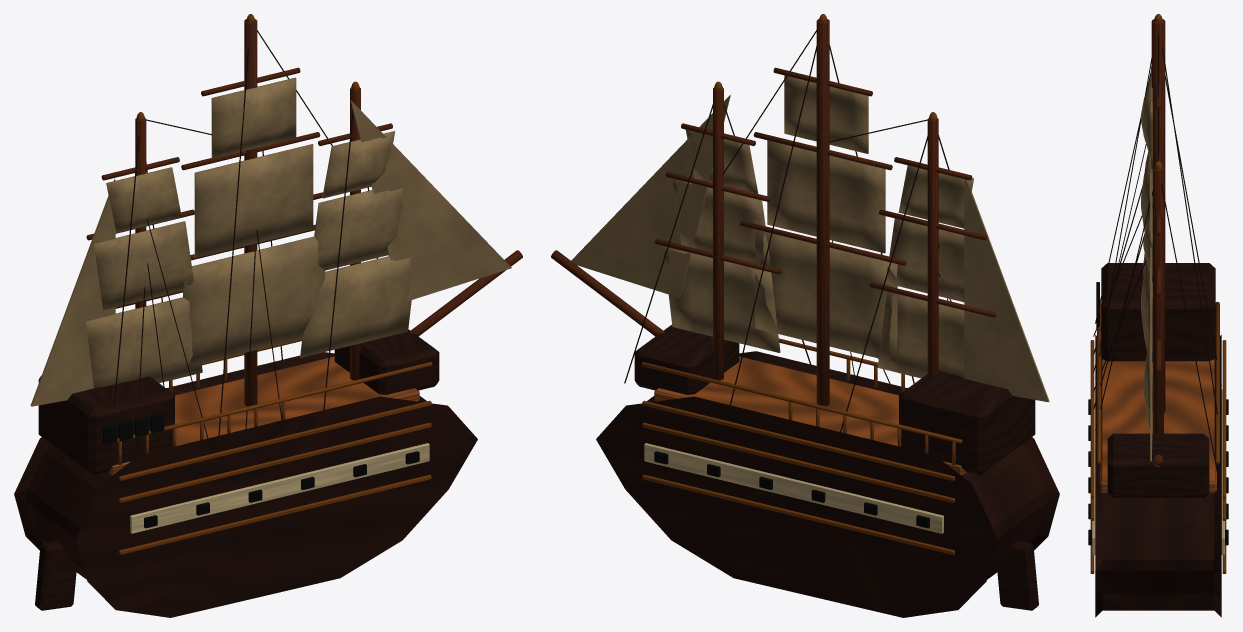
The model's file is historical_model_ship_LOD1.glb.
3 views of the same model, side by side, from view 1: azimuth 30°, elevation 25°; view 2: azimuth 150°, elevation 25°; view 3: azimuth 270°, elevation 25° (orthographic).
Visible parts, largest first — view 1: Carvel built closed wooden hull, Billowed square sail 1-0, Billowed square sail 1-1, Forward triangular staysail, Planked main deck, Raised stern castle, Billowed square sail 2-0, Billowed square sail 0-0, Billowed square sail 0-1, Aft triangular spanker, Billowed square sail 2-1, Billowed square sail 1-2 (+15 smaller); view 2: Carvel built closed wooden hull, Billowed square sail 1-0, Forward triangular staysail, Raised stern castle, Billowed square sail 1-1, Aft triangular spanker, Planked main deck, Billowed square sail 2-0, Tapered mast 1, Billowed square sail 0-0, Cream gun deck stripe.001, Raised forecastle (+18 smaller); view 3: Carvel built closed wooden hull, Raised stern castle, Planked main deck, Raised forecastle, Tapered mast 1, Tapered mast 2, Continuous deck rail 1, Gold hull molding.005, Gold hull molding.002, Billowed square sail 1-2, Continuous deck rail -1, Standing shroud 1-1 (+17 smaller).
Part boxes in pixels (box(x1,y1,x2,y2)): Carvel built closed wooden hull: box(14, 352, 477, 617); Billowed square sail 1-0: box(183, 236, 324, 365); Billowed square sail 1-1: box(194, 144, 313, 257); Forward triangular staysail: box(350, 100, 511, 301); Planked main deck: box(107, 356, 419, 475); Raised stern castle: box(38, 375, 174, 474); Billowed square sail 2-0: box(300, 256, 411, 357); Billowed square sail 0-0: box(86, 297, 202, 388); Billowed square sail 0-1: box(93, 221, 193, 310); Aft triangular spanker: box(30, 178, 115, 406); Billowed square sail 2-1: box(314, 188, 402, 270); Billowed square sail 1-2: box(211, 77, 296, 158); Carvel built closed wooden hull: box(596, 351, 1059, 617); Billowed square sail 1-0: box(755, 229, 897, 362); Forward triangular staysail: box(571, 95, 730, 297); Raised stern castle: box(899, 371, 1035, 474); Billowed square sail 1-1: box(767, 140, 885, 253); Aft triangular spanker: box(964, 179, 1049, 402); Planked main deck: box(654, 356, 966, 475); Billowed square sail 2-0: box(663, 246, 780, 352); Tapered mast 1: box(816, 19, 829, 406); Billowed square sail 0-0: box(877, 291, 964, 378); Cream gun deck stripe.001: box(644, 443, 943, 533); Raised forecastle: box(634, 325, 739, 394); Carvel built closed wooden hull: box(1095, 335, 1221, 617); Raised stern castle: box(1101, 263, 1215, 361); Planked main deck: box(1100, 359, 1216, 493); Raised forecastle: box(1107, 433, 1209, 497); Tapered mast 1: box(1151, 19, 1165, 412); Tapered mast 2: box(1153, 167, 1163, 433); Continuous deck rail 1: box(1215, 301, 1219, 464); Gold hull molding.005: box(1222, 340, 1226, 498); Gold hull molding.002: box(1090, 340, 1094, 498); Billowed square sail 1-2: box(1141, 66, 1152, 169); Continuous deck rail -1: box(1097, 302, 1101, 464); Standing shroud 1-1: box(1162, 47, 1221, 440).
Size of the model in its own units: 0.9438 by 1.01 by 0.228.
9 materials, 9 textured.
